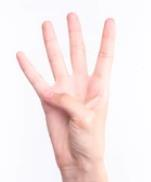right: (13, 12, 118, 170)
